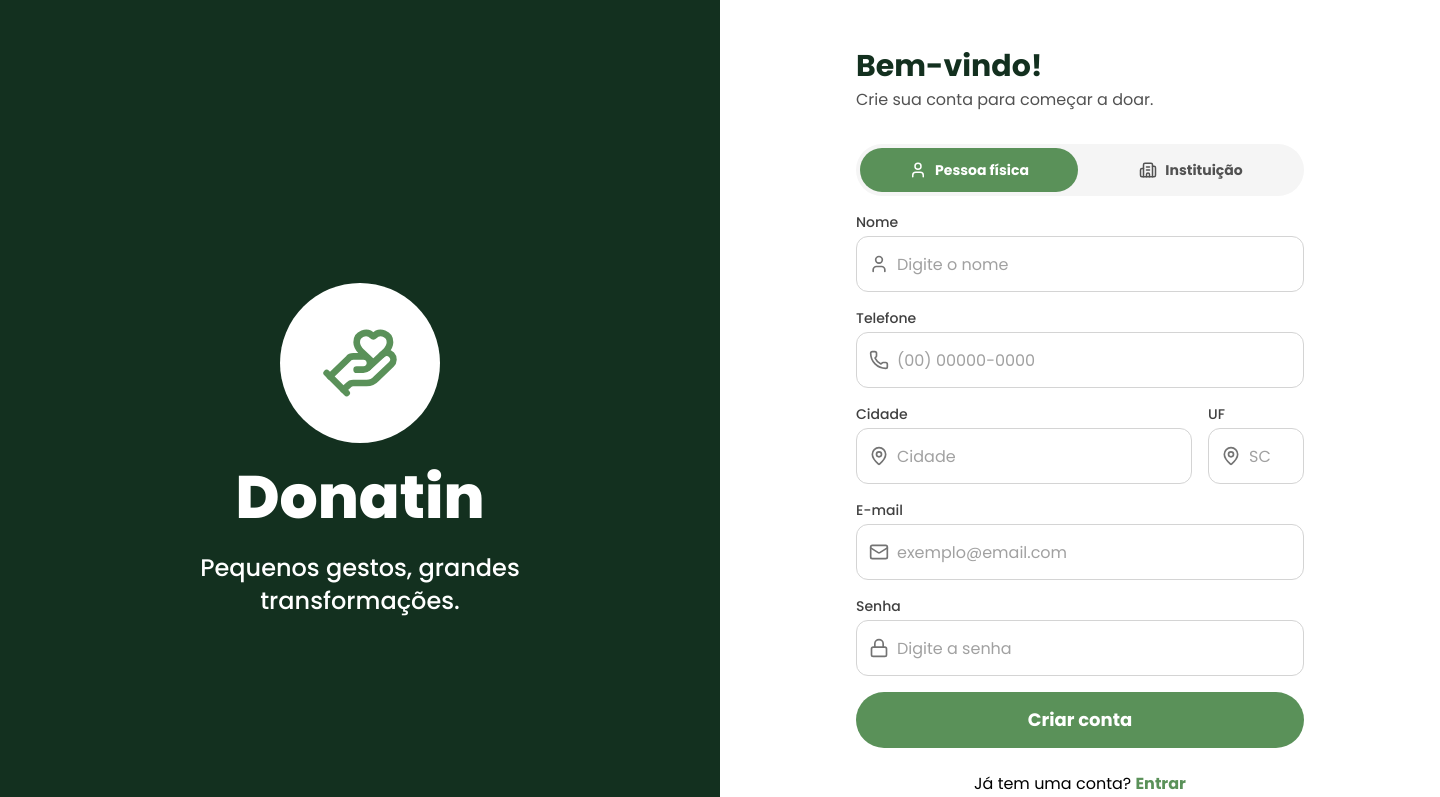
Test: RegisterPage › erro de campo vindo da API aparece embaixo do campo certo
Type "  Maria Souza " into the field labelled "Nome".
click(1094, 264); type("  Maria Souza ")  # box [897,237,1291,291]
Type "47999990000" into the field labelled "Telefone".
click(1094, 360); type("47999990000")  # box [897,333,1291,387]
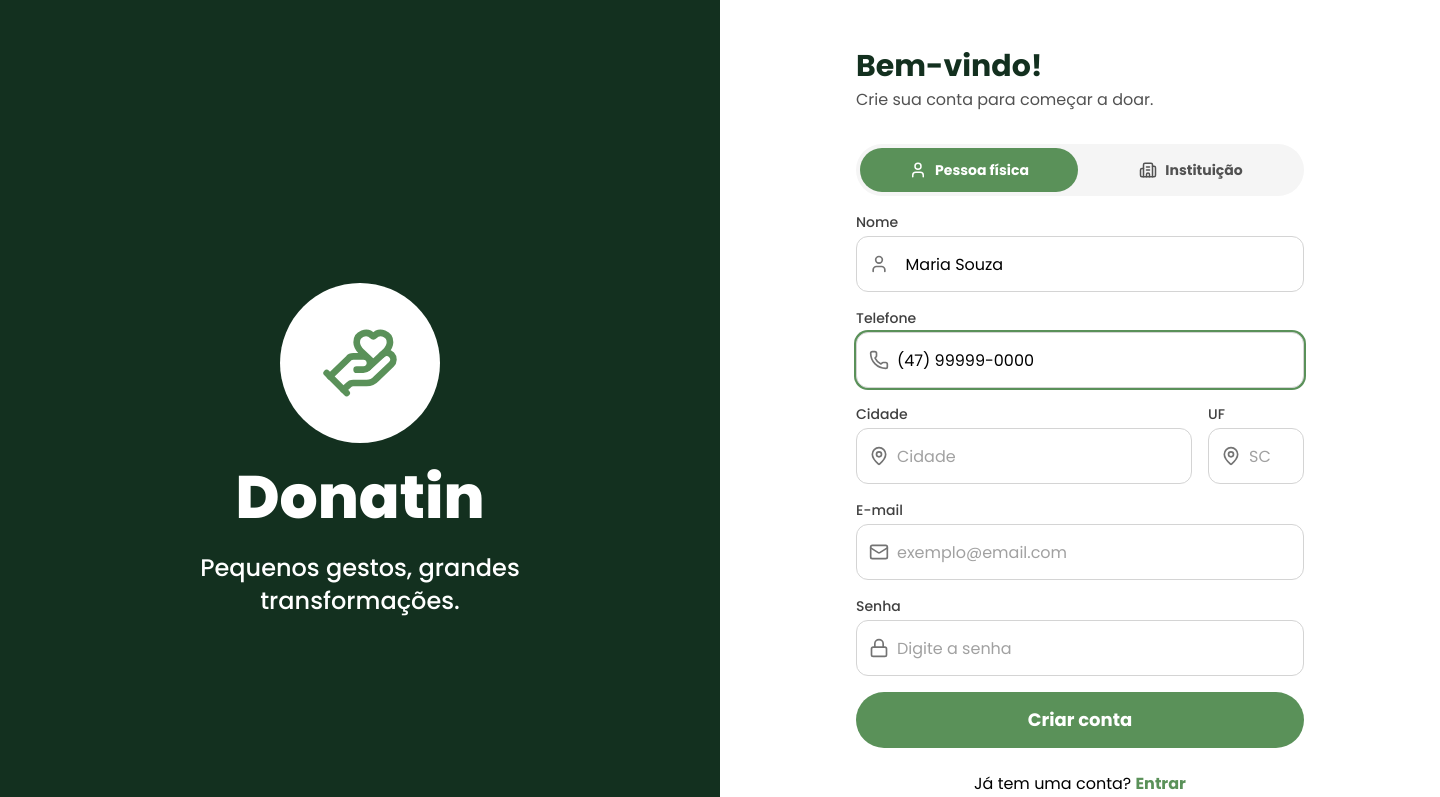
Type "Joinville" into the field labelled "Cidade".
click(1038, 456); type("Joinville")  # box [897,429,1179,483]
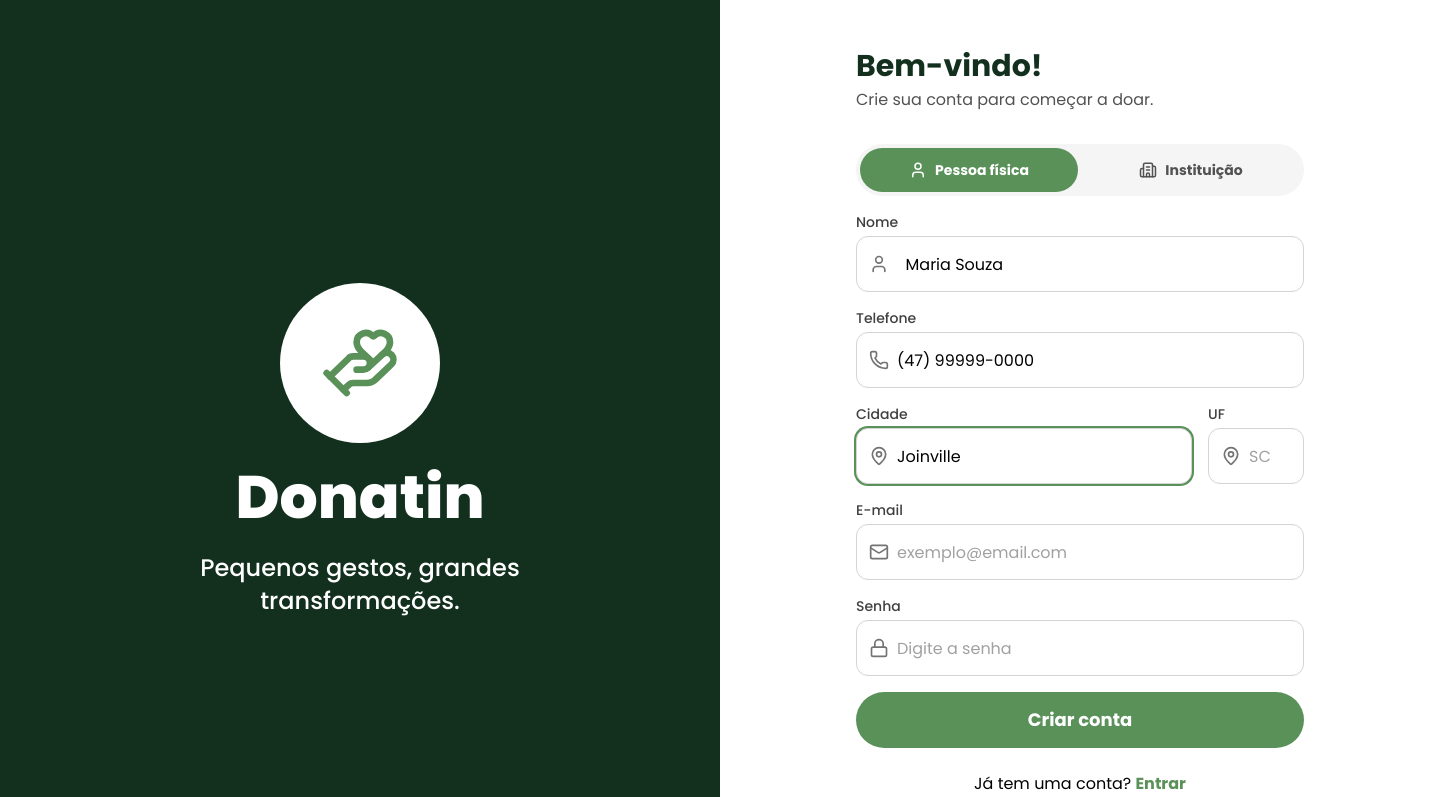
Type "sc" into the field labelled "UF".
click(1270, 456); type("sc")  # box [1249,429,1291,483]
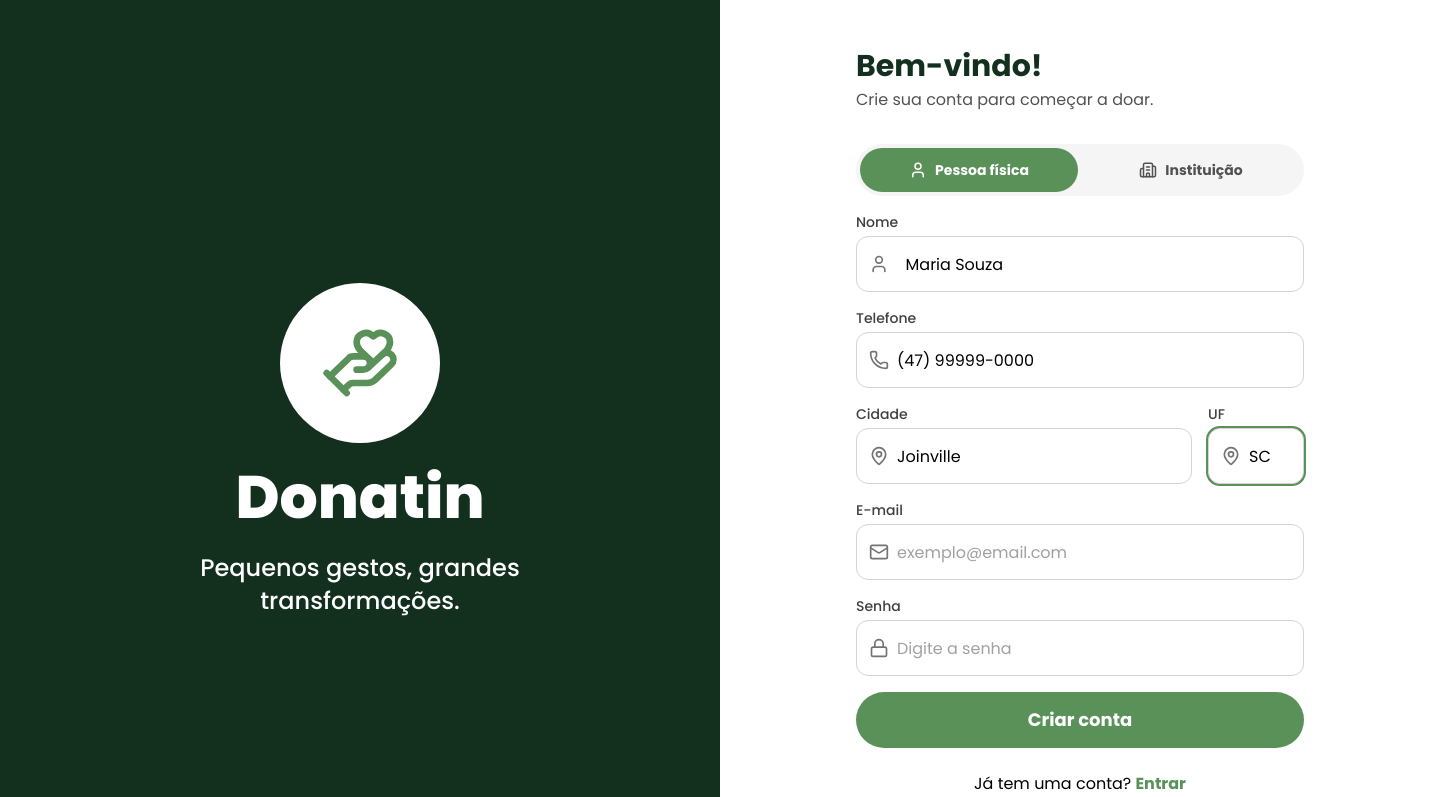
Type "maria@email.com" into the field labelled "E-mail".
click(1094, 552); type("maria@email.com")  # box [897,525,1291,579]
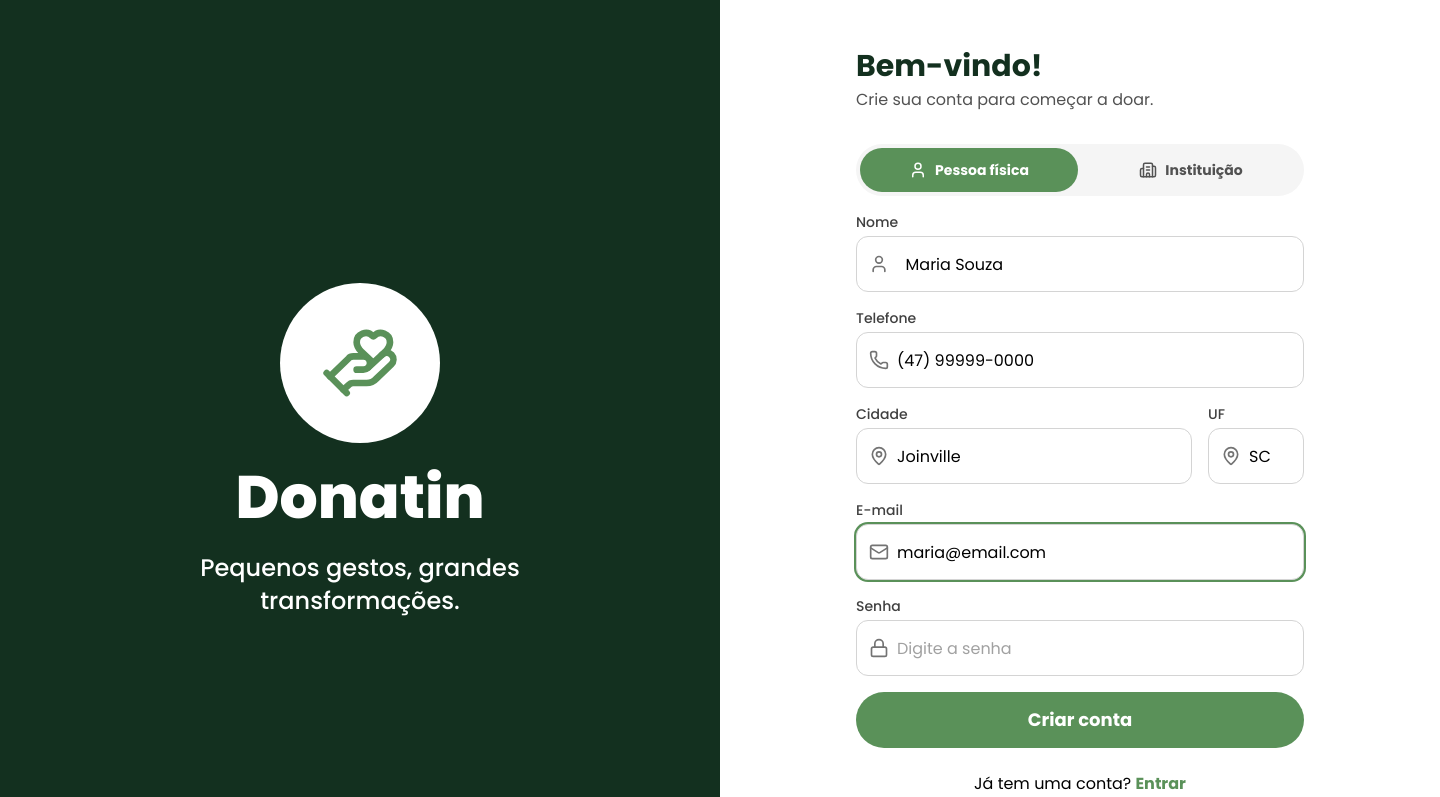
Type "Senha@123" into the password field labelled "Senha".
click(1094, 648); type("Senha@123")  # box [897,621,1291,675]
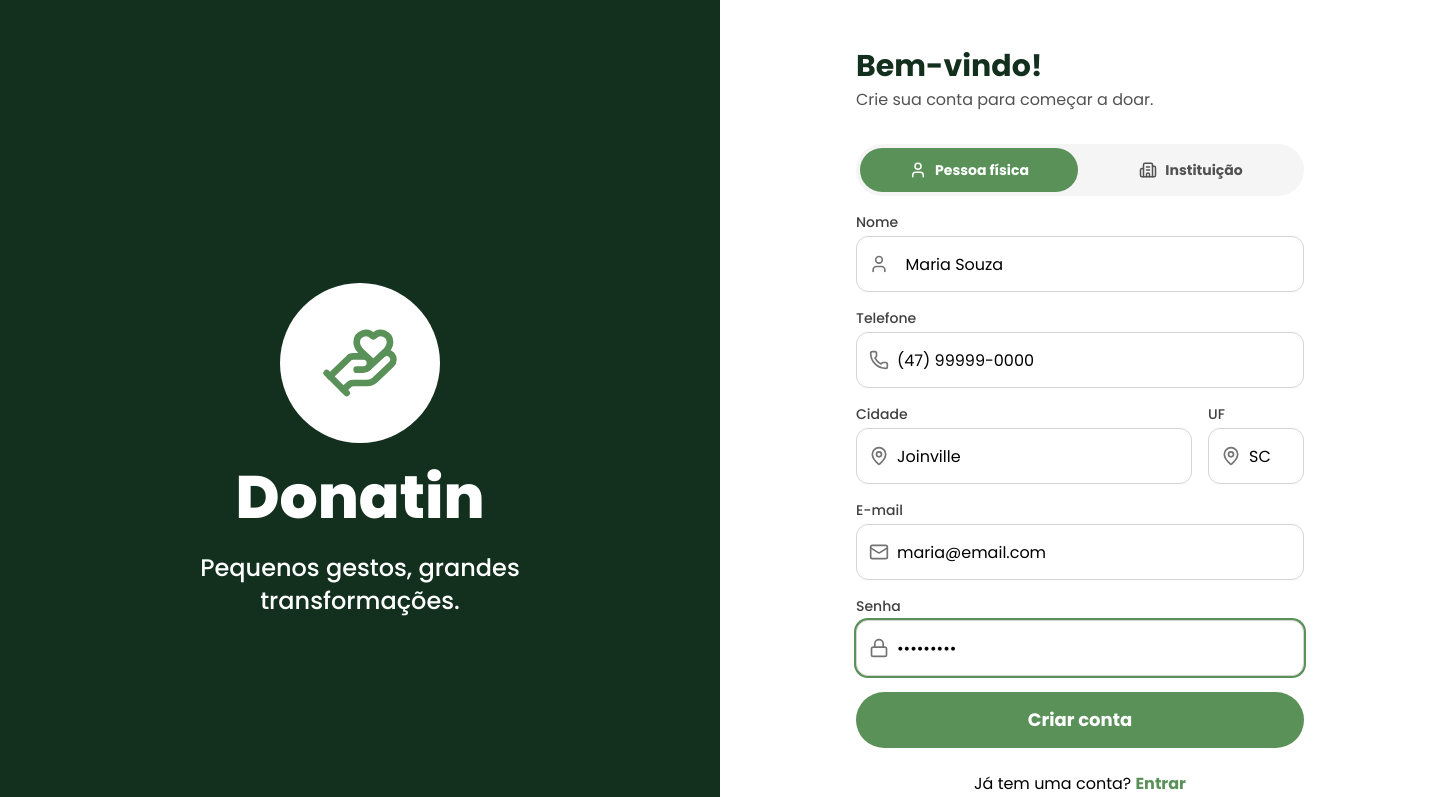
Click the button "Criar conta".
click(1080, 720)  # box [856,692,1304,748]
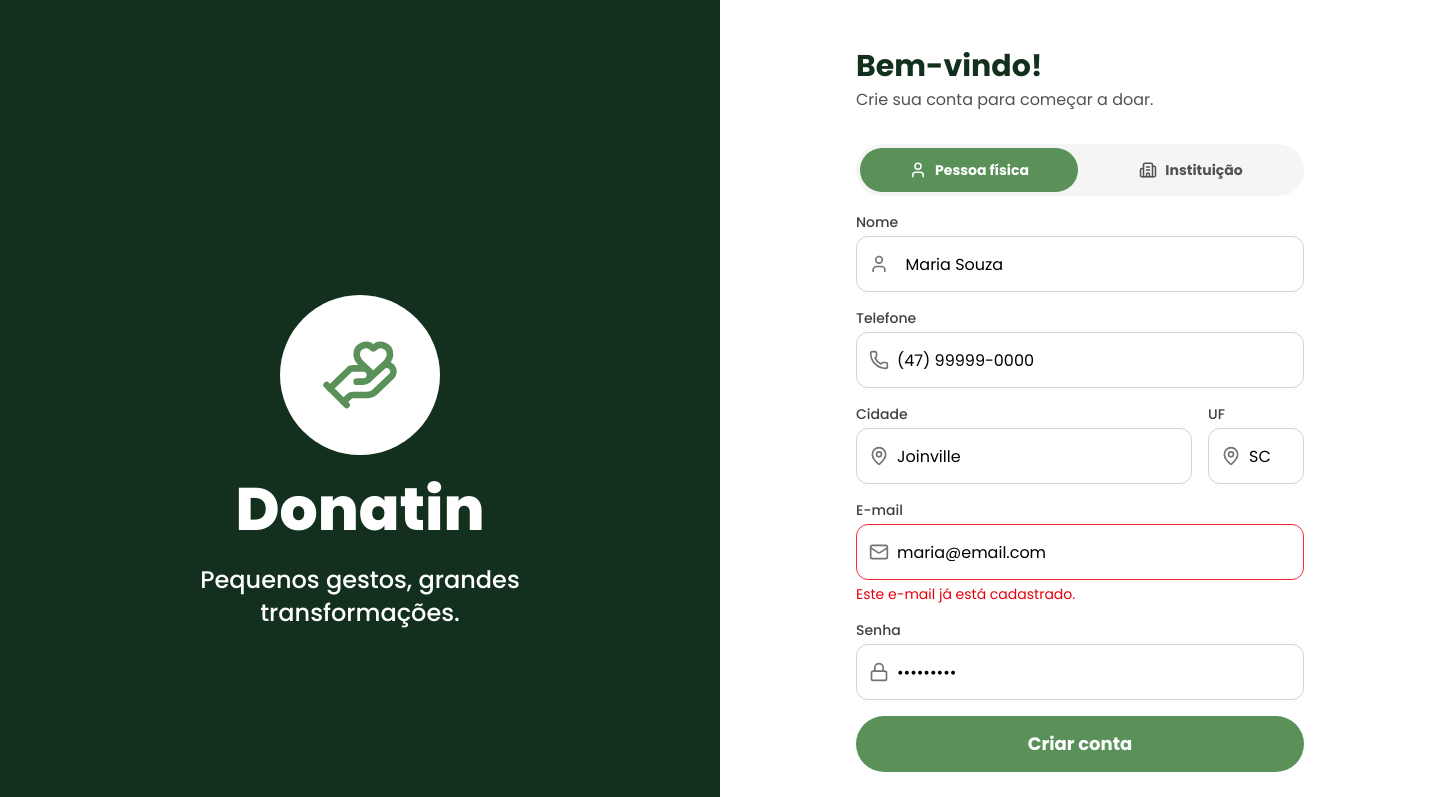
expect the text "Este e-mail já está cadastrado." is shown: met, box [856,584,1075,604]
